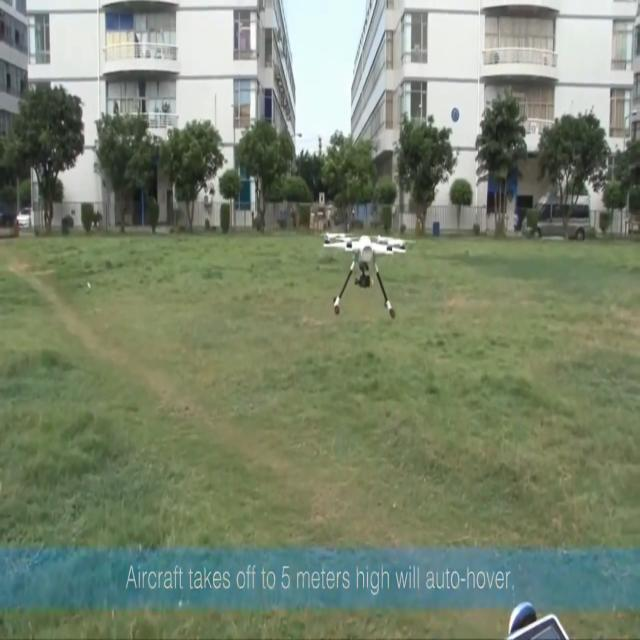drone: (322, 231, 407, 320)
